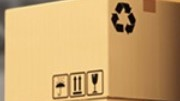stock: (4, 1, 180, 100)
